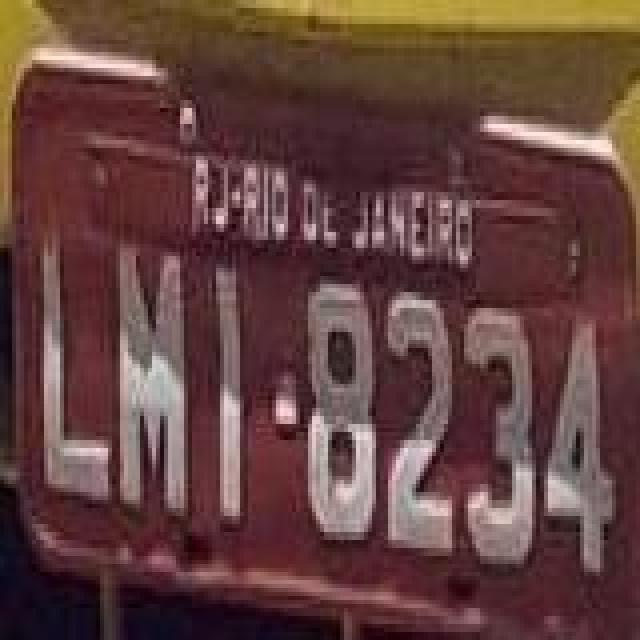1: (212, 272, 244, 528)
2: (384, 288, 456, 560)
3: (464, 300, 536, 572)
4: (542, 312, 618, 584)
8: (306, 276, 382, 548)
L: (42, 250, 118, 502)
M: (116, 240, 188, 512)
